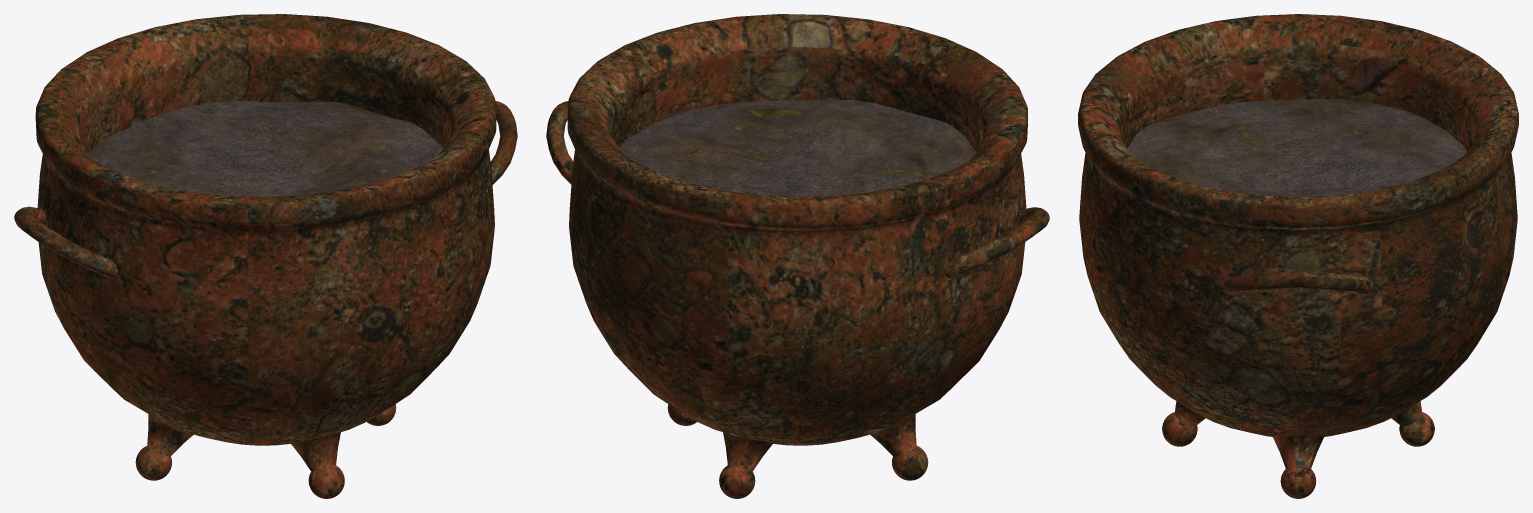
File: kotel_1488.fbx
3 renders of one model, left to right at view 1: azimuth 30°, elevation 25°; view 2: azimuth 150°, elevation 25°; view 3: azimuth 270°, elevation 25°, orthographic. The views are drawn at different scales.
Parts seen in each view (by area): view 1: Sphere.001, Plane; view 2: Sphere.001, Plane; view 3: Sphere.001, Plane.
Boxes of the visible parts, x1,y1,x2,y2 form: Sphere.001: [14, 14, 517, 498]; Plane: [88, 101, 443, 196]; Sphere.001: [546, 14, 1049, 498]; Plane: [620, 99, 976, 267]; Sphere.001: [1078, 14, 1518, 498]; Plane: [1127, 99, 1466, 196].
Size of the model in its own units: 494 by 336 by 399.
